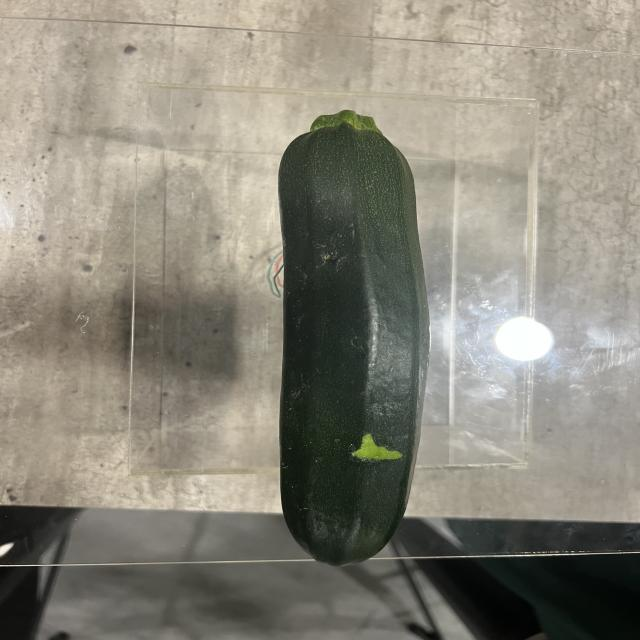zucchini: (274, 110, 426, 574)
